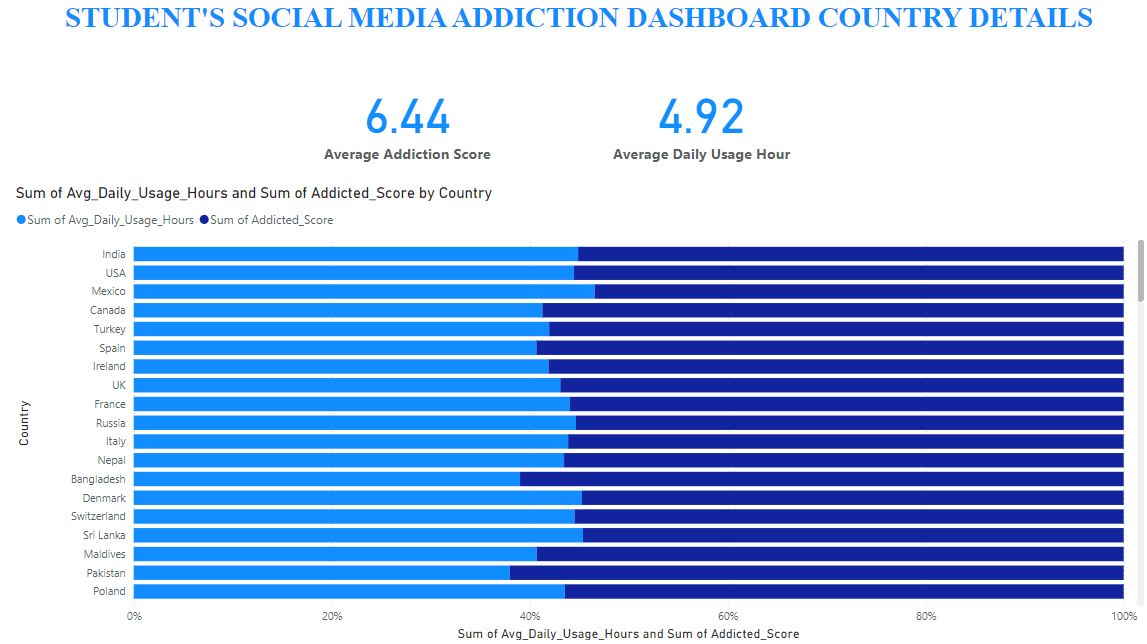

The page's visual inventory and layout, read from the dashboard file:
{"tool":"powerbi","page":{"name":"Page 2","canvas":[1280,720],"ordinal":1},"visuals":[{"type":"textbox","box":[15,0,1265,71.7],"z":0},{"type":"card","fields":{"Values":["Students Social Media Addiction.Average Addiction Score"]},"box":[336,80,240,112],"z":1000},{"type":"card","fields":{"Values":["Students Social Media Addiction.Average Daily Usage Hour"]},"box":[672,80,224,112],"z":2000},{"type":"hundredPercentStackedBarChart","fields":{"Category":["Students Social Media Addiction.Country"],"Y":["Sum(Students Social Media Addiction.Avg_Daily_Usage_Hours)","Sum(Students Social Media Addiction.Addicted_Score)"]},"box":[16,208,1264,512],"z":3000}]}

Visuals, with their boxes in screenshot pixels (x1, y1, x2, y2), scaled from the page's 1280x720 canvas onto the 1147x644 screenshot:
textbox: locate(13, 0, 1146, 64)
card - Students Social Media Addiction.Average Addiction Score: locate(301, 72, 516, 172)
card - Students Social Media Addiction.Average Daily Usage Hour: locate(602, 72, 803, 172)
hundredPercentStackedBarChart - Students Social Media Addiction.Country x Sum(Students Social Media Addiction.Avg_Daily_Usage_Hours): locate(14, 186, 1146, 643)
